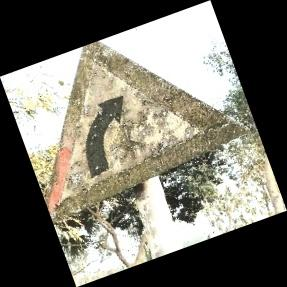Right-turn: (48, 38, 243, 221)
